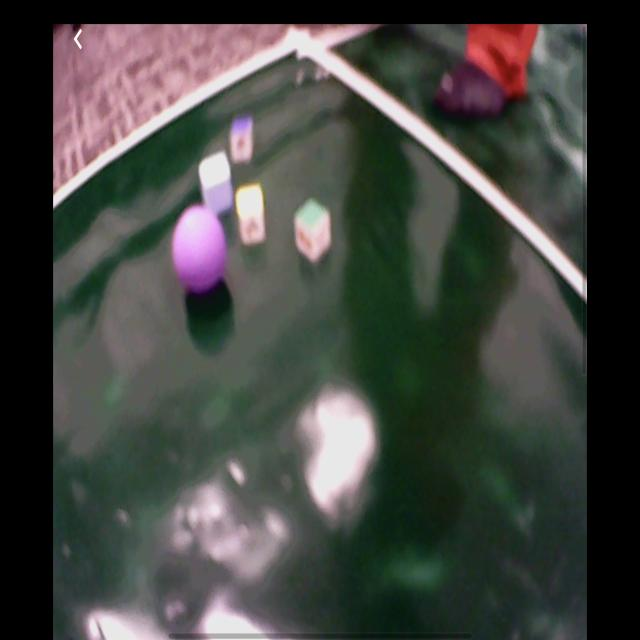ball: (173, 206, 229, 293)
